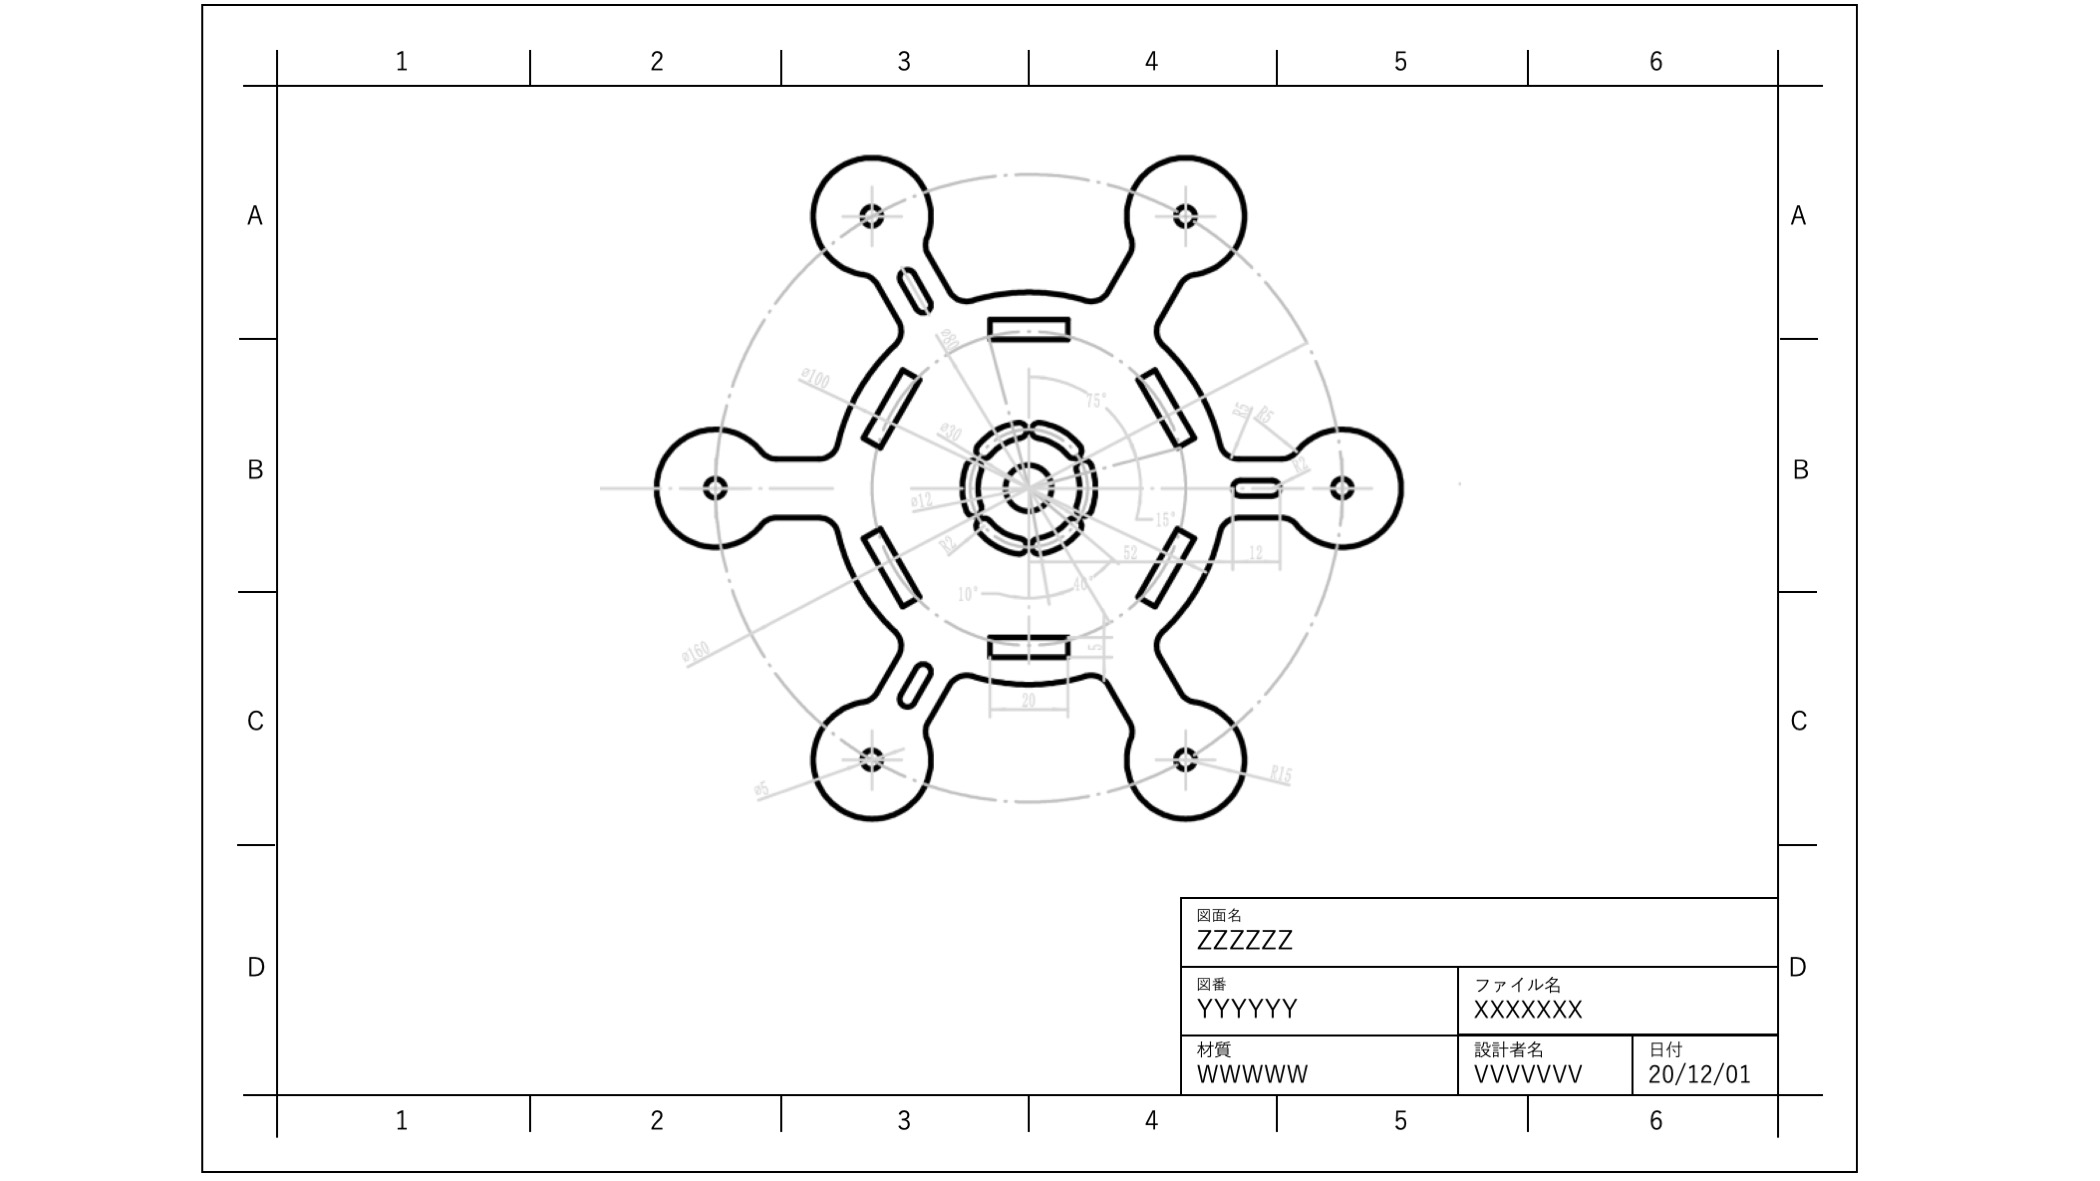circle: (1002, 469, 1054, 510), (1317, 466, 1363, 509), (852, 738, 890, 783), (1167, 198, 1206, 236), (692, 472, 737, 505), (850, 202, 893, 234), (1165, 743, 1206, 774)
rectangle: (852, 513, 930, 616), (1134, 518, 1199, 624), (1129, 366, 1204, 456), (860, 362, 926, 454), (979, 306, 1083, 350), (976, 624, 1080, 666)
round_rectangle: (939, 450, 995, 515), (962, 510, 1033, 561), (891, 264, 937, 327), (1025, 512, 1086, 558), (896, 649, 937, 712), (1028, 415, 1090, 457), (1069, 453, 1105, 521), (1226, 467, 1285, 499), (965, 430, 1025, 459)
